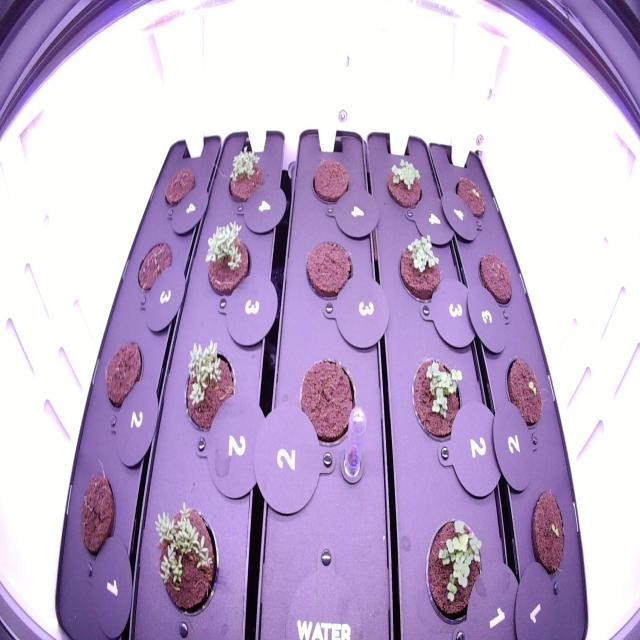germination: (151, 497, 224, 623), (420, 509, 490, 632), (407, 346, 468, 460), (179, 334, 243, 441), (526, 482, 570, 588), (199, 215, 253, 298), (394, 228, 447, 308), (501, 351, 546, 435), (380, 152, 426, 212), (224, 145, 266, 209), (450, 171, 490, 223)
pod: (295, 350, 361, 453), (72, 465, 120, 568), (301, 231, 357, 307), (100, 333, 146, 417), (473, 249, 517, 312), (131, 236, 175, 298), (306, 154, 352, 212), (159, 161, 200, 214)
